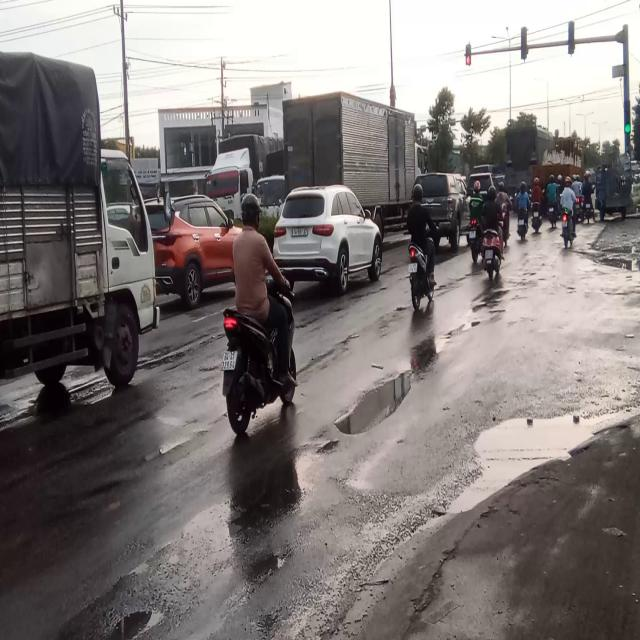bien_trang: (219, 348, 237, 373), (290, 228, 308, 236)
